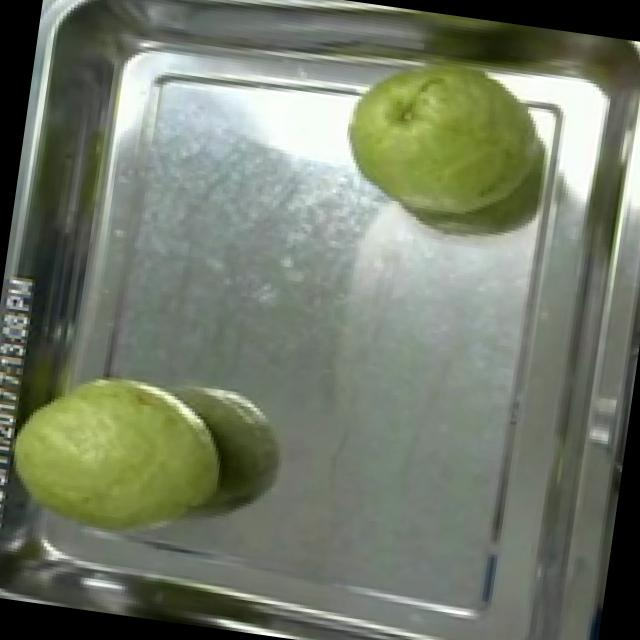Fruit: (322, 33, 560, 247), (0, 351, 240, 557)
